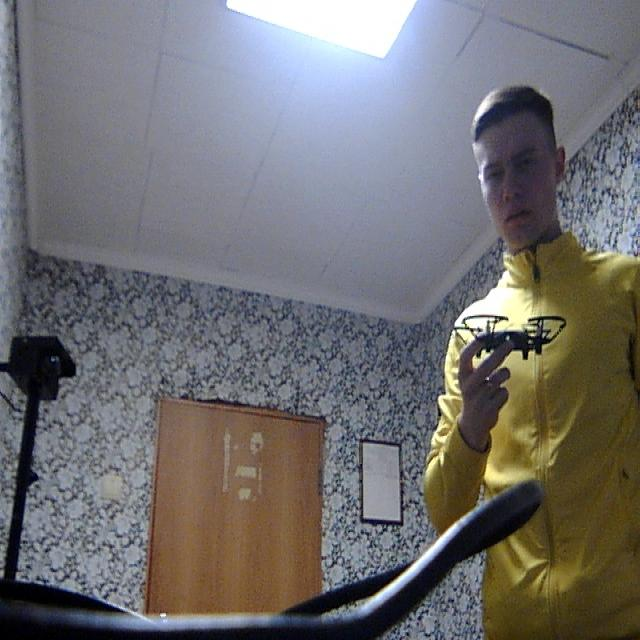drone: (452, 301, 571, 363)
